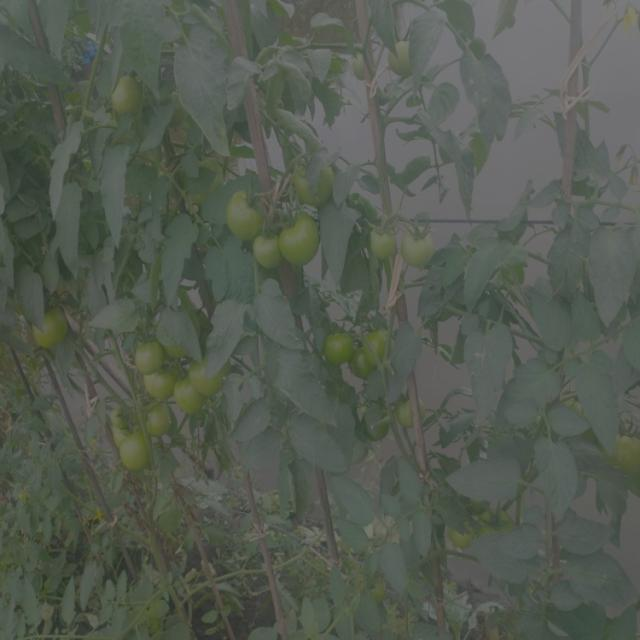tomato: (453, 506, 509, 548), (291, 161, 338, 211), (138, 334, 171, 398), (218, 190, 263, 236), (112, 407, 174, 438), (106, 71, 146, 115), (319, 329, 359, 368), (605, 426, 640, 469), (285, 218, 319, 262), (33, 317, 69, 353), (369, 227, 399, 264), (178, 378, 203, 420), (406, 227, 435, 263), (121, 443, 152, 475), (368, 331, 396, 363), (190, 162, 219, 192), (254, 240, 281, 271), (401, 397, 424, 431), (395, 40, 416, 74), (351, 53, 374, 81)
